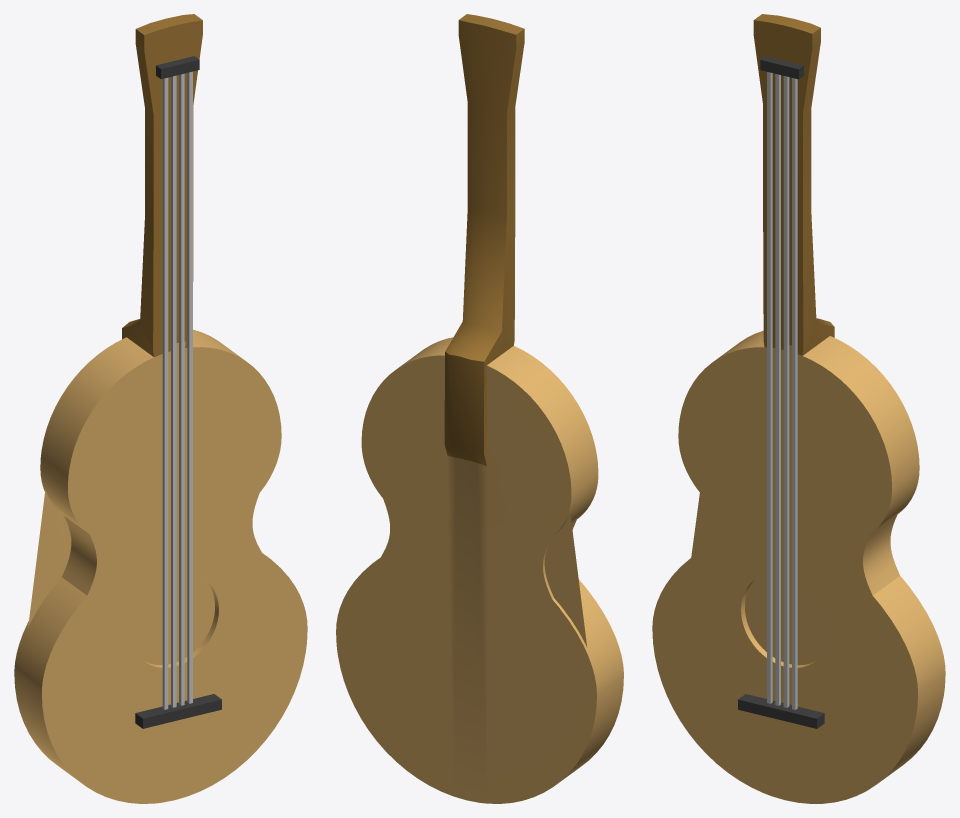
The model's file is Asset020_Violão.fbx.
The picture shows the model from 3 angles, left to right: view 1: azimuth 30°, elevation 25°; view 2: azimuth 150°, elevation 25°; view 3: azimuth 330°, elevation 25°; orthographic projection.
Visible parts, largest first — view 1: Corpo, Cube_1_0, Cube_1_1, Cube_1_2, Cube_1_3, Apoio, Apoio02; view 2: Corpo; view 3: Corpo, Cube_1_2, Cube_1_0, Cube_1_1, Cube_1_3, Apoio, Apoio02.
Part boxes in pixels (x1,y1,x2,y2): Corpo: (14, 14, 307, 803); Cube_1_0: (162, 77, 168, 709); Cube_1_1: (171, 75, 176, 707); Cube_1_2: (179, 73, 184, 705); Cube_1_3: (187, 71, 192, 703); Apoio: (135, 694, 221, 728); Apoio02: (156, 56, 199, 79); Corpo: (336, 14, 623, 803); Corpo: (652, 14, 945, 803); Cube_1_2: (783, 76, 789, 707); Cube_1_0: (767, 72, 772, 703); Cube_1_1: (775, 74, 780, 705); Cube_1_3: (792, 78, 797, 709); Apoio: (738, 694, 824, 728); Apoio02: (760, 56, 803, 79).
Size of the model in its own units: 101 by 282 by 27.56.
